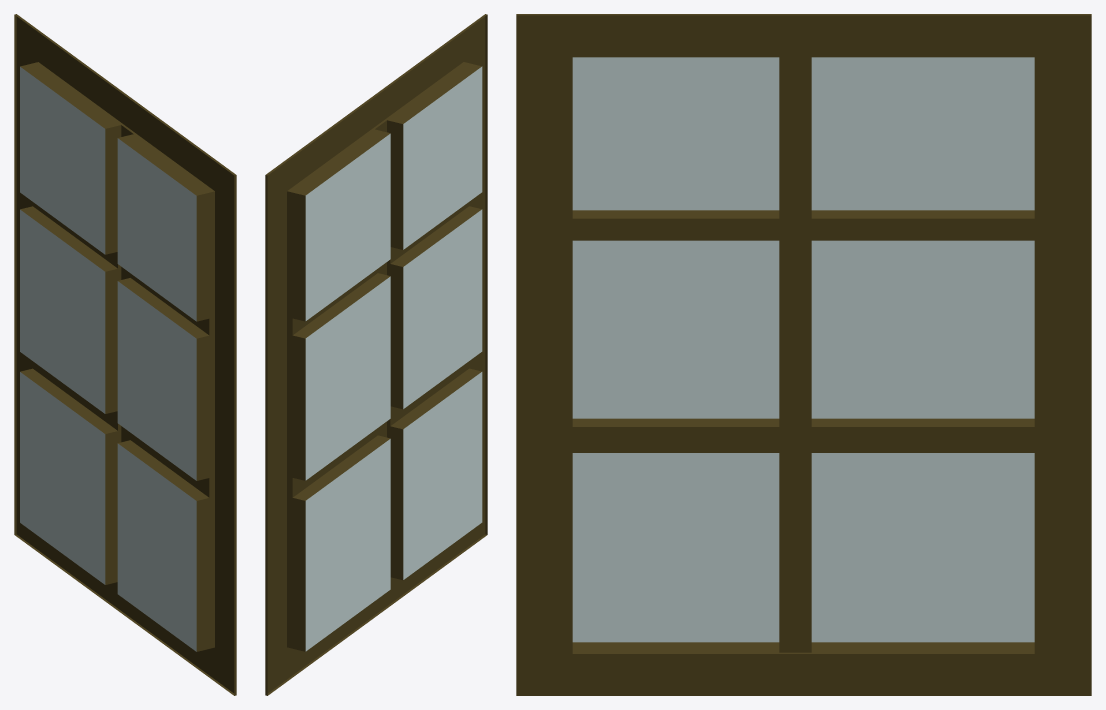
File: GB_Window3.fbx
The picture shows the model from 3 angles, left to right: view 1: azimuth 30°, elevation 25°; view 2: azimuth 150°, elevation 25°; view 3: azimuth 270°, elevation 25°; orthographic projection. The views are drawn at different scales.
Visible parts, largest first — view 1: pasted__polySurface5; view 2: pasted__polySurface5; view 3: pasted__polySurface5.
Boxes of the visible parts, x1,y1,x2,y2 form: pasted__polySurface5: (14, 14, 236, 695); pasted__polySurface5: (265, 14, 487, 695); pasted__polySurface5: (516, 14, 1091, 695).
Bounding box in the file's own units: 0.0622 × 1.68 × 1.29.
